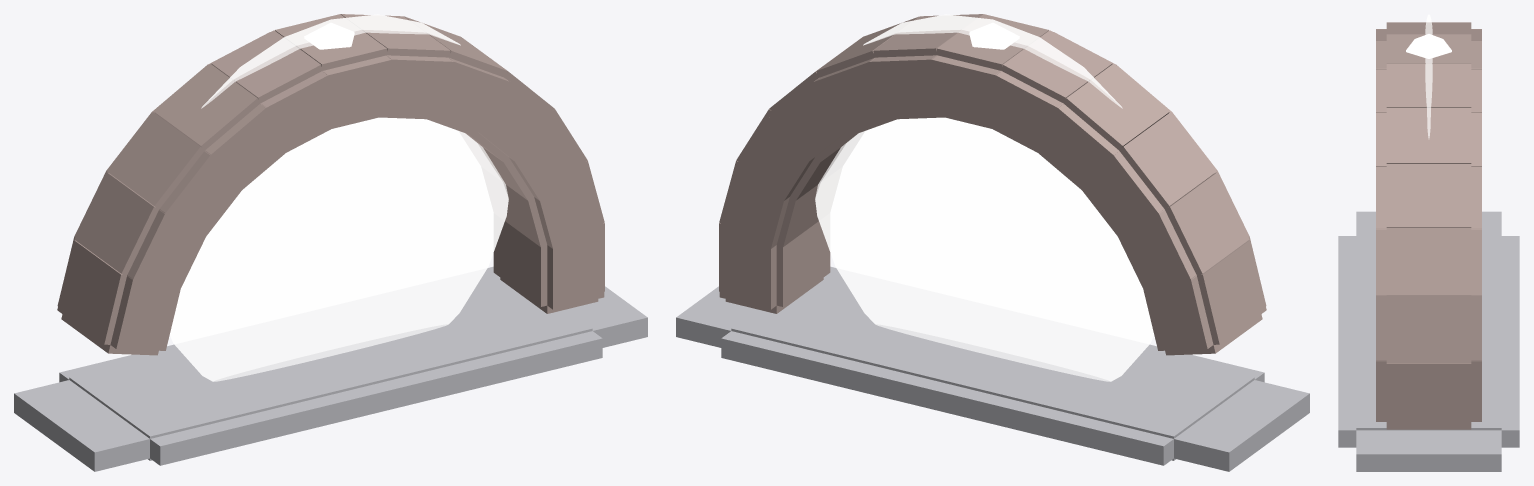
The model's file is build_portal_blossom.glb.
3 renders of one model, left to right at view 1: azimuth 30°, elevation 25°; view 2: azimuth 150°, elevation 25°; view 3: azimuth 270°, elevation 25°, orthographic. The views are drawn at different scales.
Visible parts, largest first — view 1: box; view 2: box; view 3: box.
Part boxes in pixels (box(x1,y1,x2,y2)): box: box(14, 14, 647, 471); box: box(676, 14, 1309, 471); box: box(1338, 14, 1519, 471).
Bounding box in the file's own units: 3.8 × 2.5 × 1.2.
